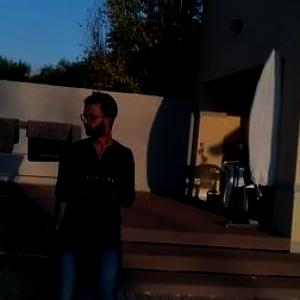follow: (48, 86, 140, 299)
